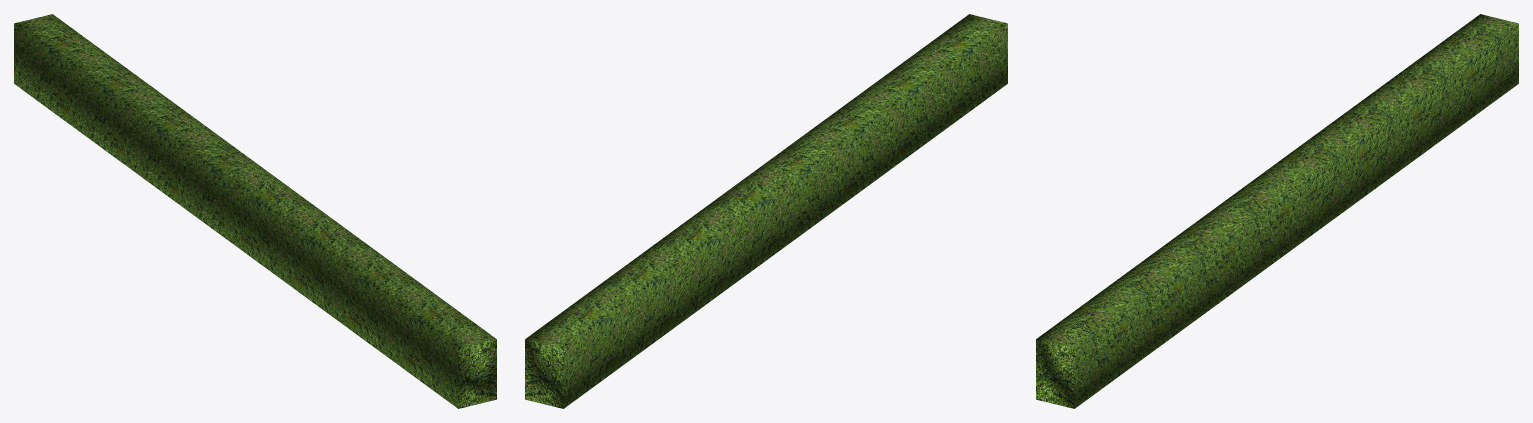
File: hedge_wall.glb
The picture shows the model from 3 angles, left to right: view 1: azimuth 30°, elevation 25°; view 2: azimuth 150°, elevation 25°; view 3: azimuth 330°, elevation 25°; orthographic projection.
Parts seen in each view (by area): view 1: hedge_wall; view 2: hedge_wall; view 3: hedge_wall.
Part boxes in pixels (x1,y1,x2,y2): hedge_wall: (14,14,496,408); hedge_wall: (525,14,1007,408); hedge_wall: (1036,14,1518,408).
Size of the model in its own units: 2 by 3.3 by 39.93.
Materials: 1 (1 with a texture image).
